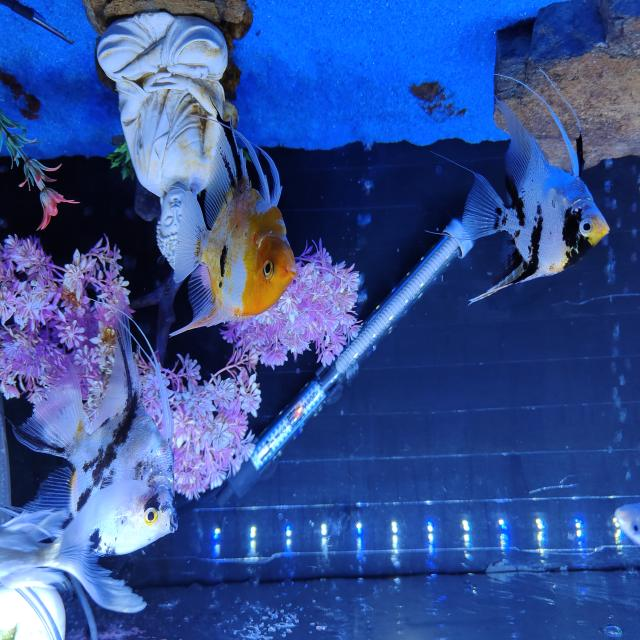Fish: (13, 314, 176, 554), (461, 95, 608, 301), (171, 126, 295, 334), (0, 480, 145, 611), (614, 504, 640, 546)
